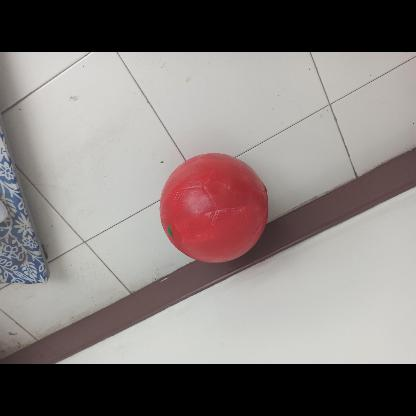red_ball: (160, 155, 271, 266)
